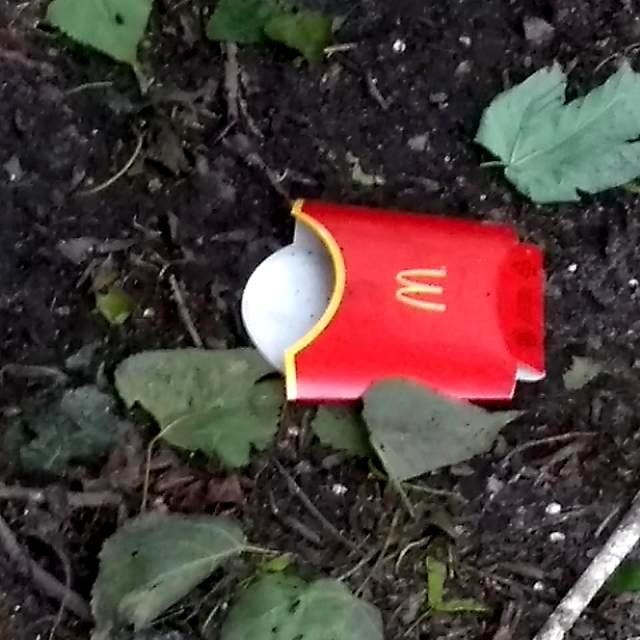Paper: (238, 194, 548, 404)
